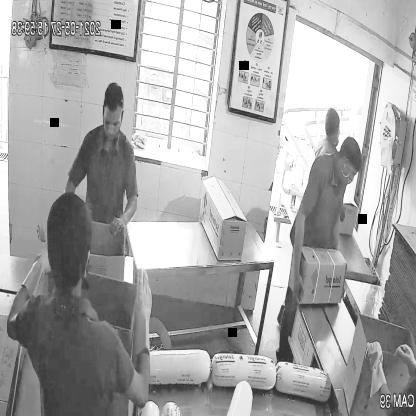no_goggles: (98, 110, 127, 131)
